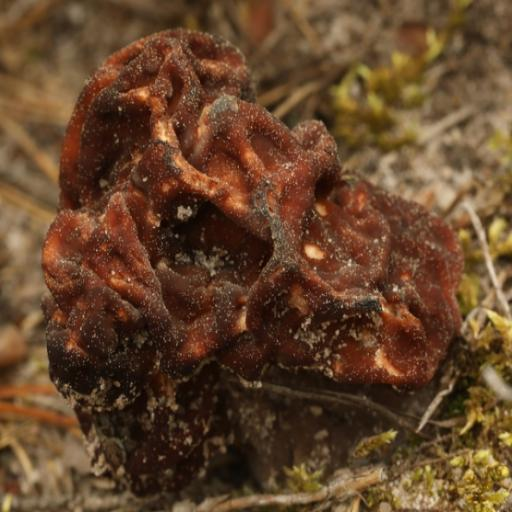mushroom: (38, 21, 462, 478)
